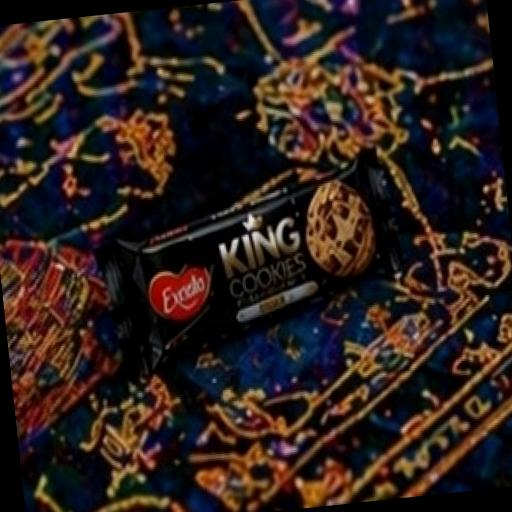king-cooking: (69, 132, 448, 424)
